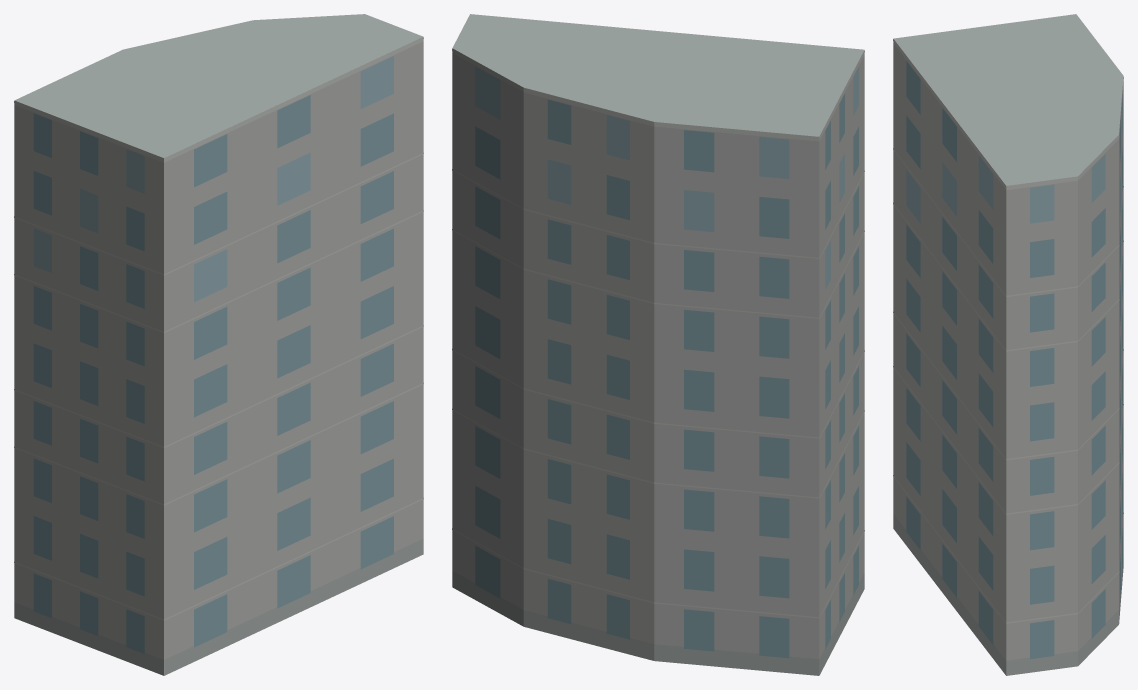
File: survey-upis-32567547.glb
The picture shows the model from 3 angles, left to right: view 1: azimuth 30°, elevation 25°; view 2: azimuth 150°, elevation 25°; view 3: azimuth 270°, elevation 25°; orthographic projection. The views are drawn at different scales.
Parts seen in each view (by area): view 1: survey-upis-32567547.tmp; view 2: survey-upis-32567547.tmp; view 3: survey-upis-32567547.tmp.
Part boxes in pixels (x1,y1,x2,y2): survey-upis-32567547.tmp: (14, 14, 423, 675); survey-upis-32567547.tmp: (452, 14, 864, 675); survey-upis-32567547.tmp: (893, 14, 1123, 675).
Bounding box in the file's own units: 20.69 × 27.45 × 11.72.
